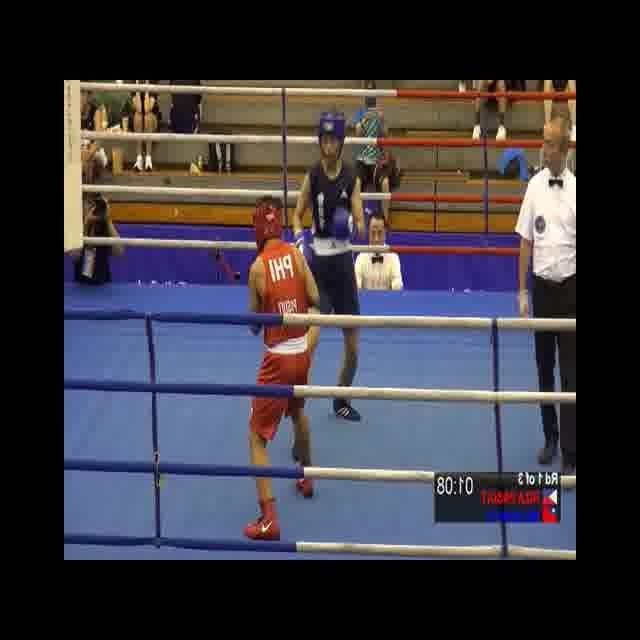blue-player: (287, 105, 370, 462)
red-player: (242, 192, 326, 543)
referee: (513, 114, 576, 495)
